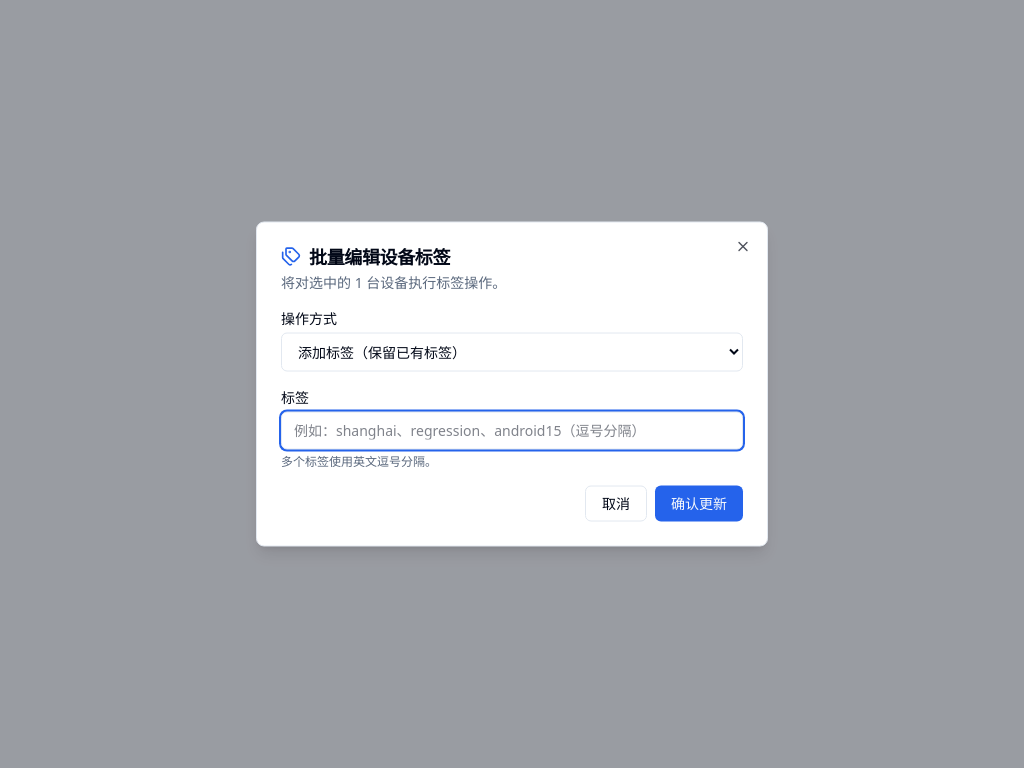
Test: BatchEditDeviceTagsDialog › requires tags for add and remove operations
The width and height of the screenshot is (1024, 768).
Click the button "确认更新" at (699, 504), box [655,486,743,522]
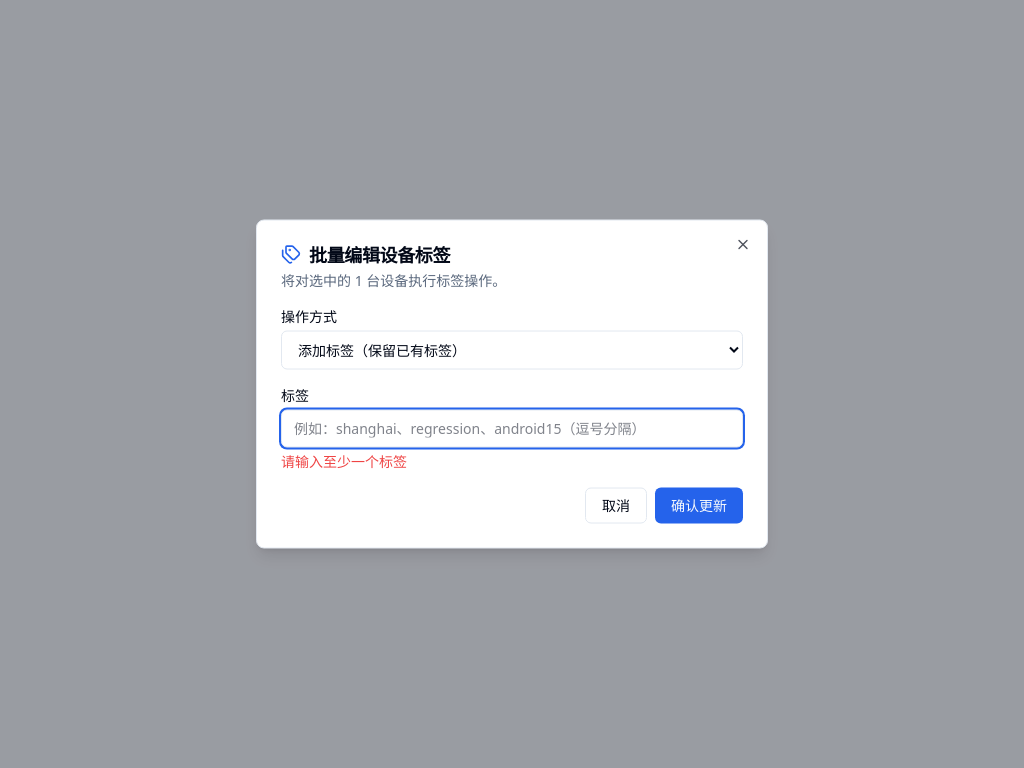
Now the text "请输入至少一个标签" is shown, box [281,452,407,470]
